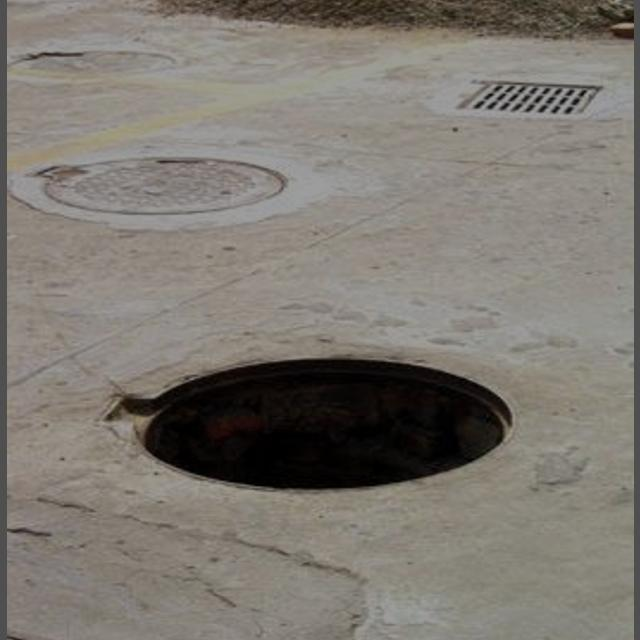lose: (104, 324, 521, 501)
